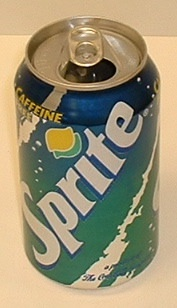grozi_55: (13, 15, 160, 288)
